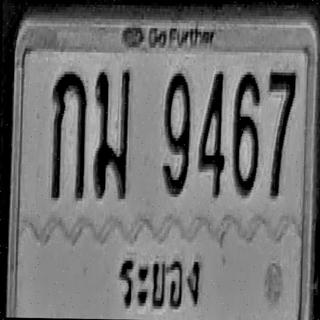A01: (50, 70, 87, 200)
A33: (93, 66, 130, 199)
N04: (198, 70, 225, 196)
N06: (232, 69, 260, 195)
N07: (266, 68, 296, 197)
N09: (162, 70, 191, 194)
P53: (112, 244, 210, 320)
